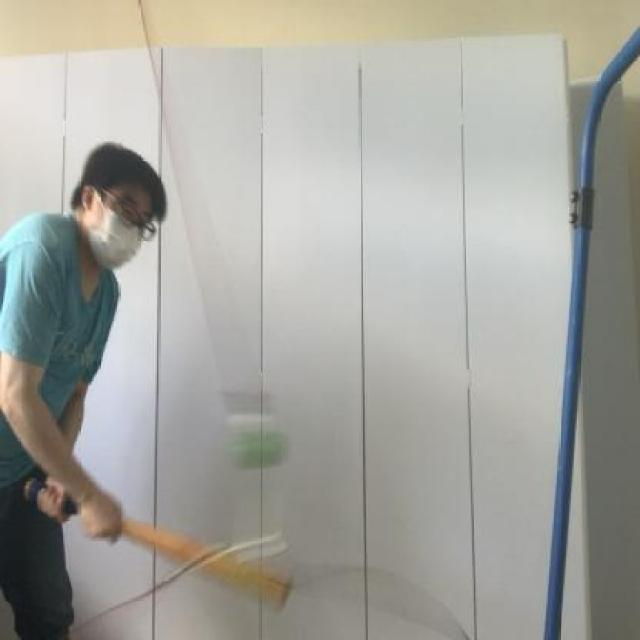baseball: (225, 414, 297, 480)
